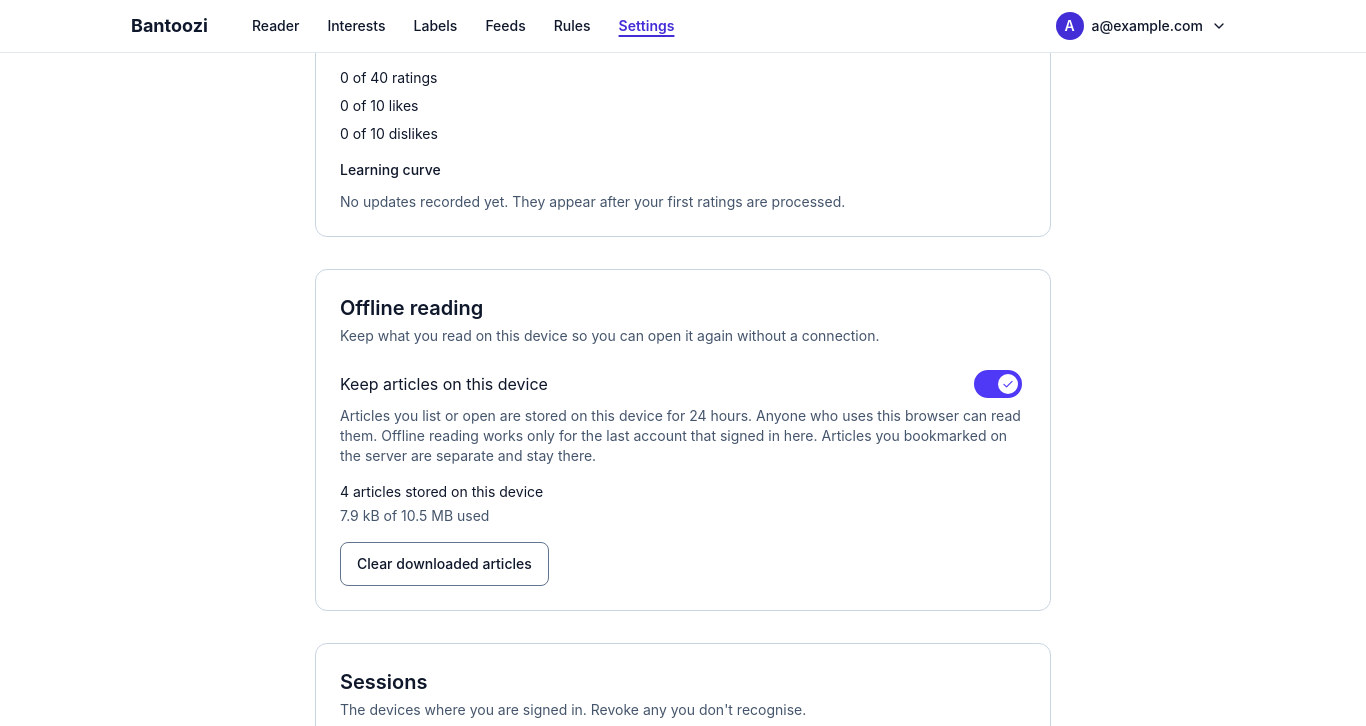
Test: the Offline reading section › turning it off › removes what was stored at once when nothing is waiting to be sent
This screenshot has width=1366, height=726.
(page scrolled)
Expected: the text "4 articles stored on this device" is shown, 340,483 -> 543,500
Click the switch named "Keep articles on this device".
click(998, 384)  # box 970,362 -> 1026,406
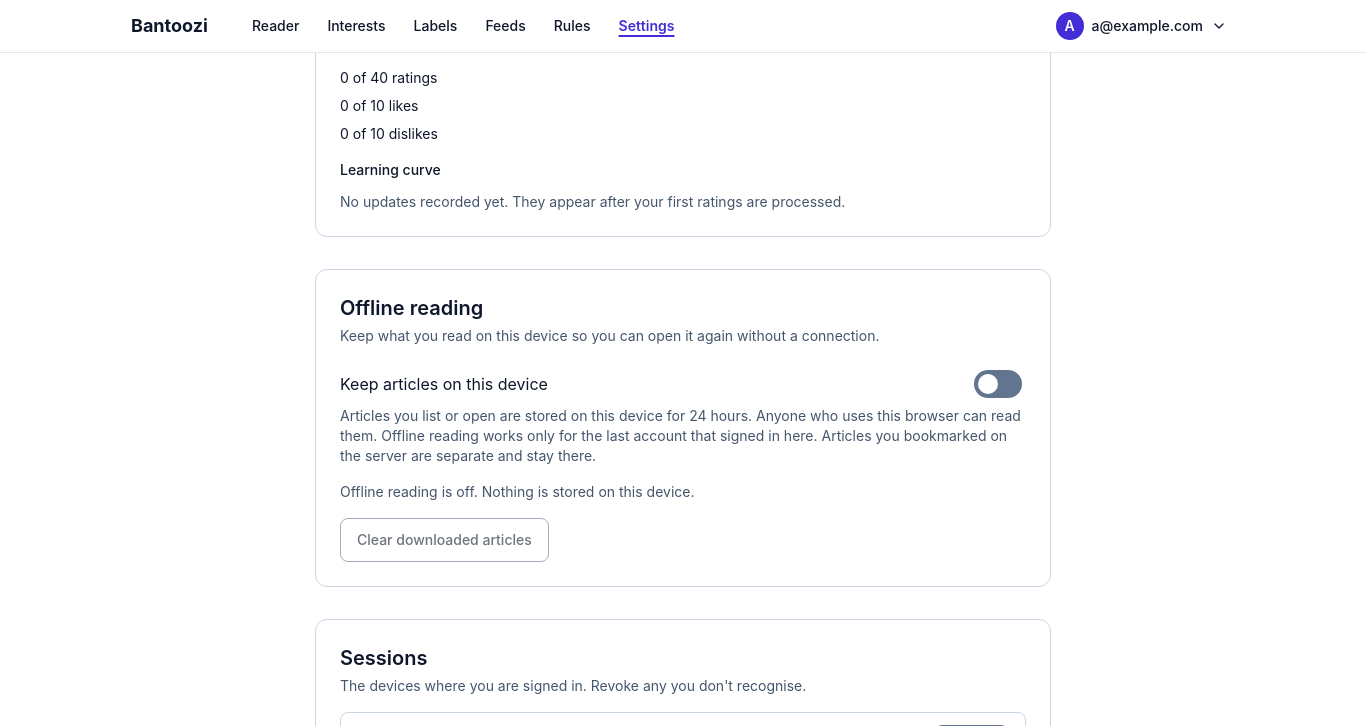
Expected: the text "Offline reading is off. Nothing is stored on this device." is shown, 340,483 -> 694,500
